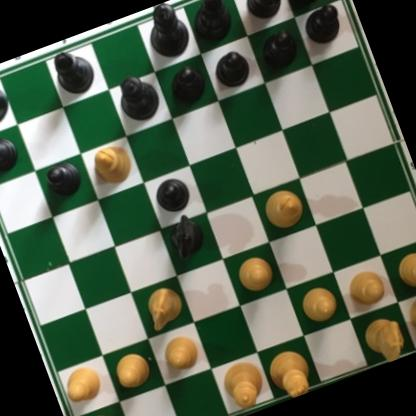black-bishop: (48, 43, 103, 100), (181, 0, 236, 46)
black-king: (138, 0, 195, 64)
black-knight: (160, 210, 212, 263), (236, 0, 291, 25)
black-pawn: (147, 170, 196, 219), (254, 28, 301, 77), (298, 0, 347, 47), (164, 63, 210, 112), (206, 48, 252, 94), (38, 154, 83, 199), (0, 131, 22, 181)
black-queen: (108, 68, 163, 128)
black-rook: (0, 68, 15, 132), (274, 0, 338, 12)
white-bishop: (254, 181, 309, 236), (85, 138, 137, 190)
white-king: (259, 343, 316, 405)
white-knight: (359, 311, 410, 368), (138, 277, 189, 331)
white-pawn: (55, 355, 109, 410), (107, 345, 158, 397), (296, 279, 345, 329), (232, 251, 280, 300), (156, 329, 204, 376), (343, 265, 389, 311), (388, 247, 416, 295)
white-queen: (213, 353, 272, 416)
white-rook: (400, 286, 416, 346), (68, 407, 130, 416)
